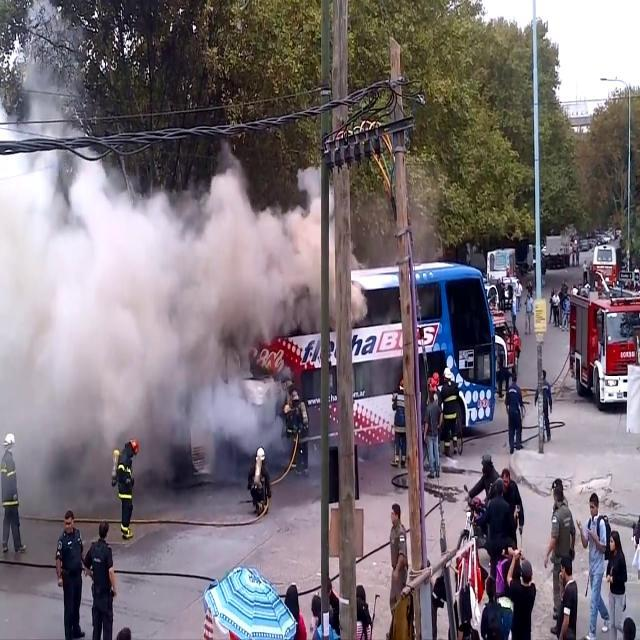Smoke: (0, 133, 316, 507)
